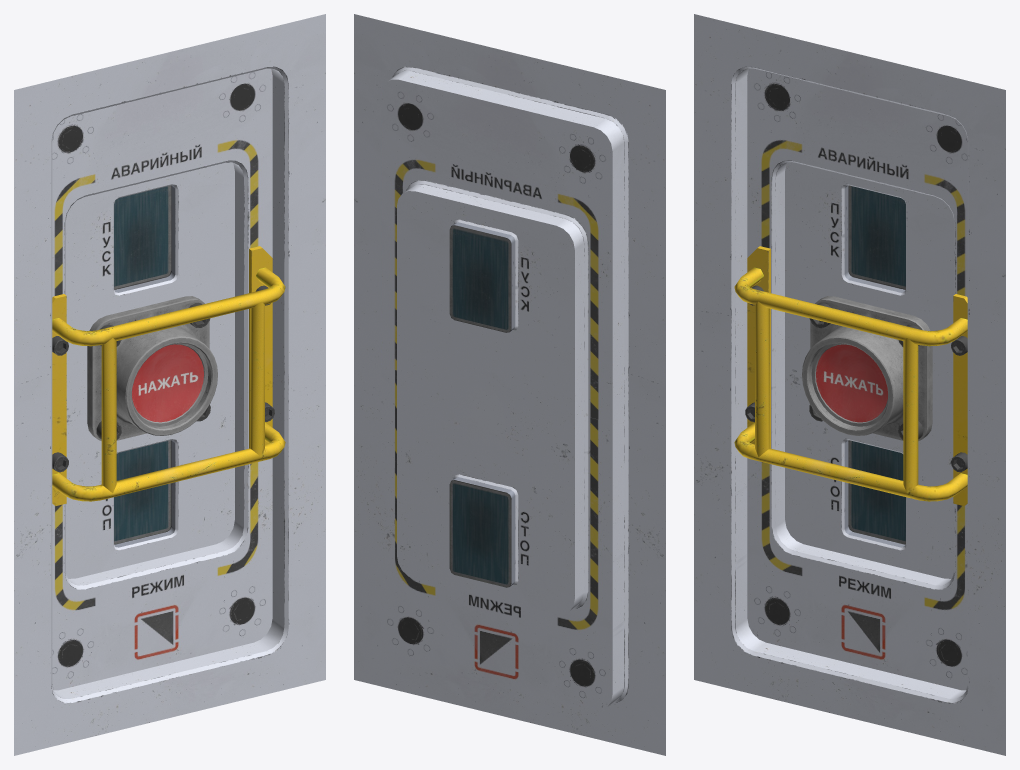
The model's file is railDevice.fbx.
The picture shows the model from 3 angles, left to right: view 1: azimuth 30°, elevation 25°; view 2: azimuth 150°, elevation 25°; view 3: azimuth 330°, elevation 25°; orthographic projection.
Visible parts, largest first — view 1: Cube.006; view 2: Cube.006; view 3: Cube.006.
Part boxes in pixels (x1,y1,x2,y2): Cube.006: (14, 14, 325, 755); Cube.006: (354, 14, 665, 755); Cube.006: (694, 14, 1005, 755).
Bounding box in the file's own units: 97.96 × 200 × 25.4.
Materials: 1 (1 with a texture image).
